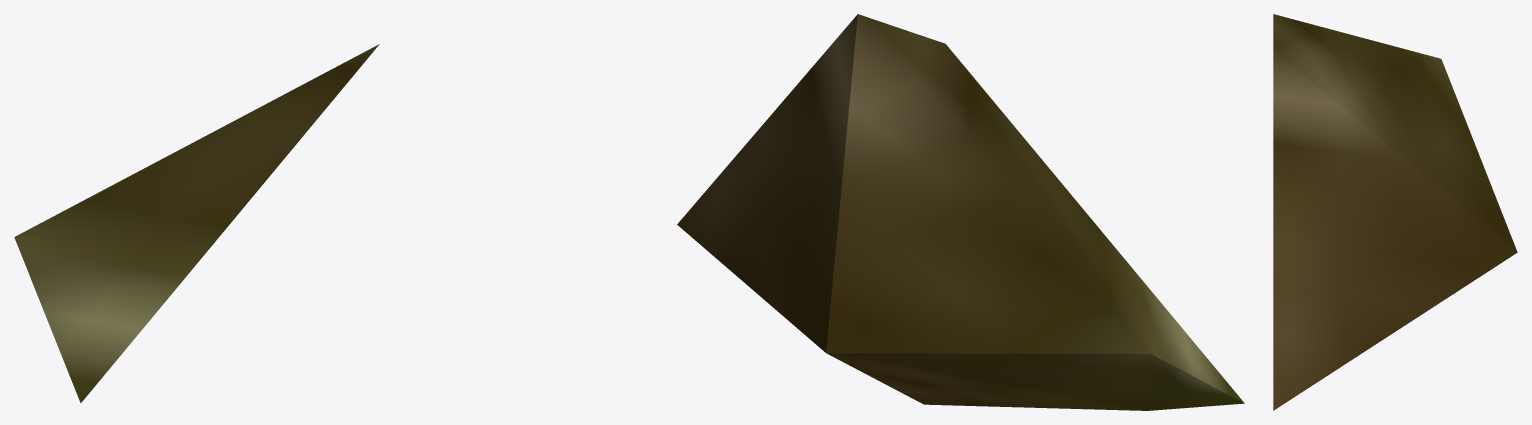
The picture shows the model from 3 angles, left to right: view 1: azimuth 30°, elevation 25°; view 2: azimuth 150°, elevation 25°; view 3: azimuth 270°, elevation 25°; orthographic projection. The views are drawn at different scales.
Bounding box in the file's own units: 0.0315 × 0.0198 × 0.0112.
1 material, 1 textured.
